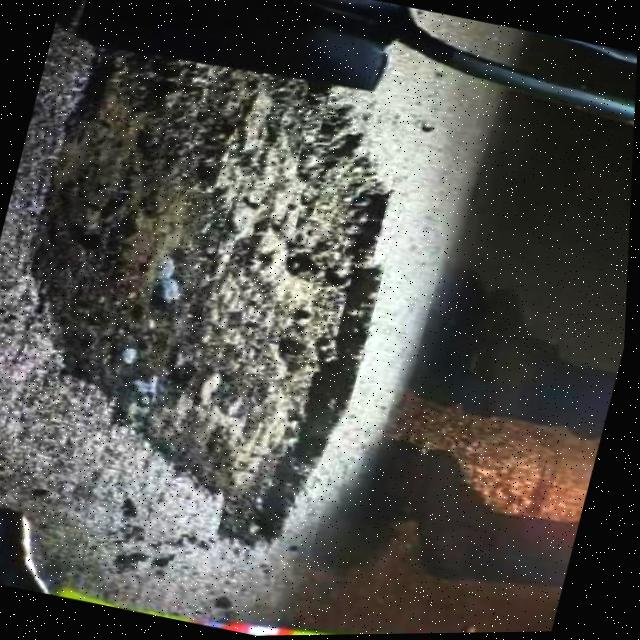Pothole: (0, 0, 448, 568)
